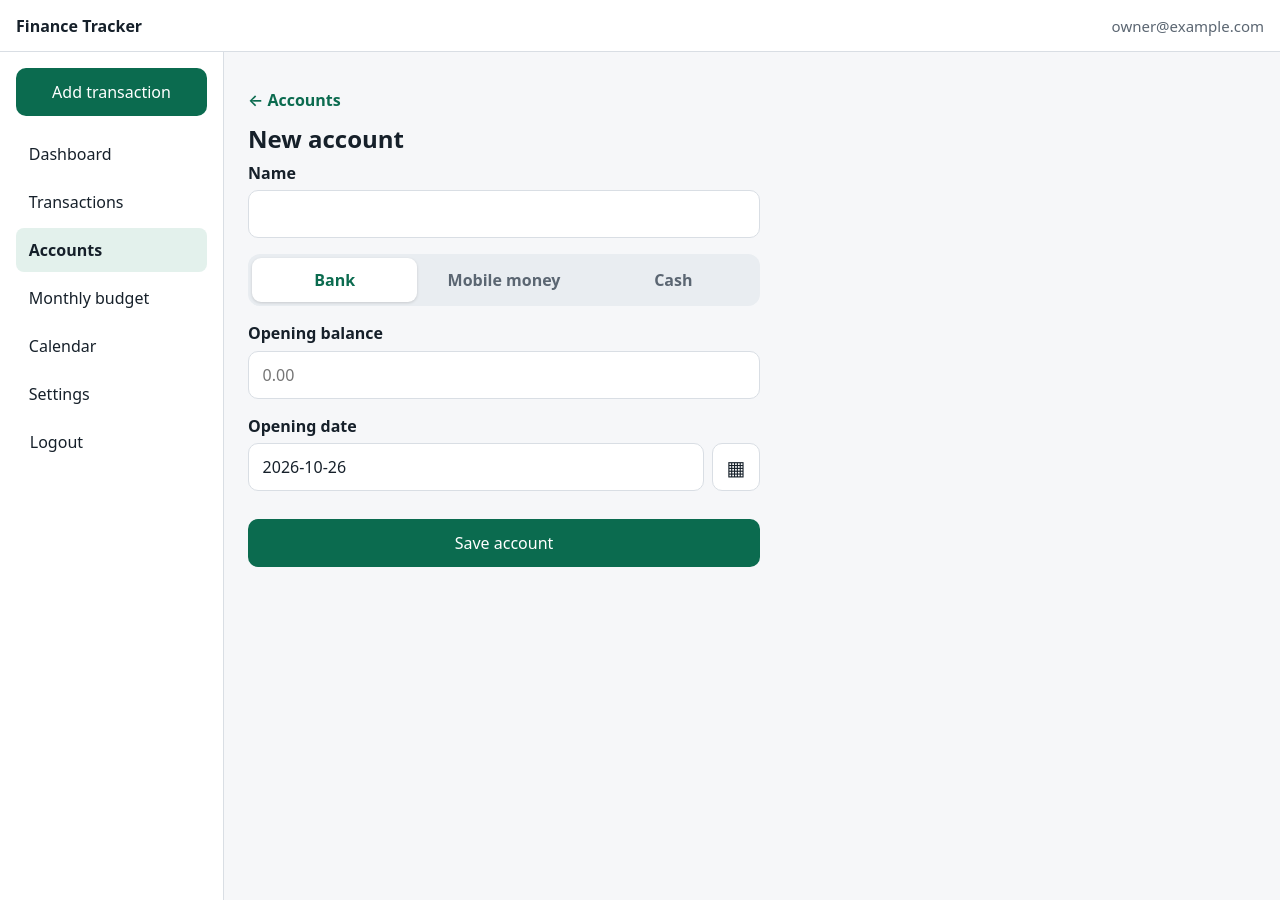
new account form › sends the chosen type and a normalized amount, then returns to the list
Type "MTN MoMo" into the field labelled "Name".
click(504, 214); type("MTN MoMo")  # box [248,190,760,238]
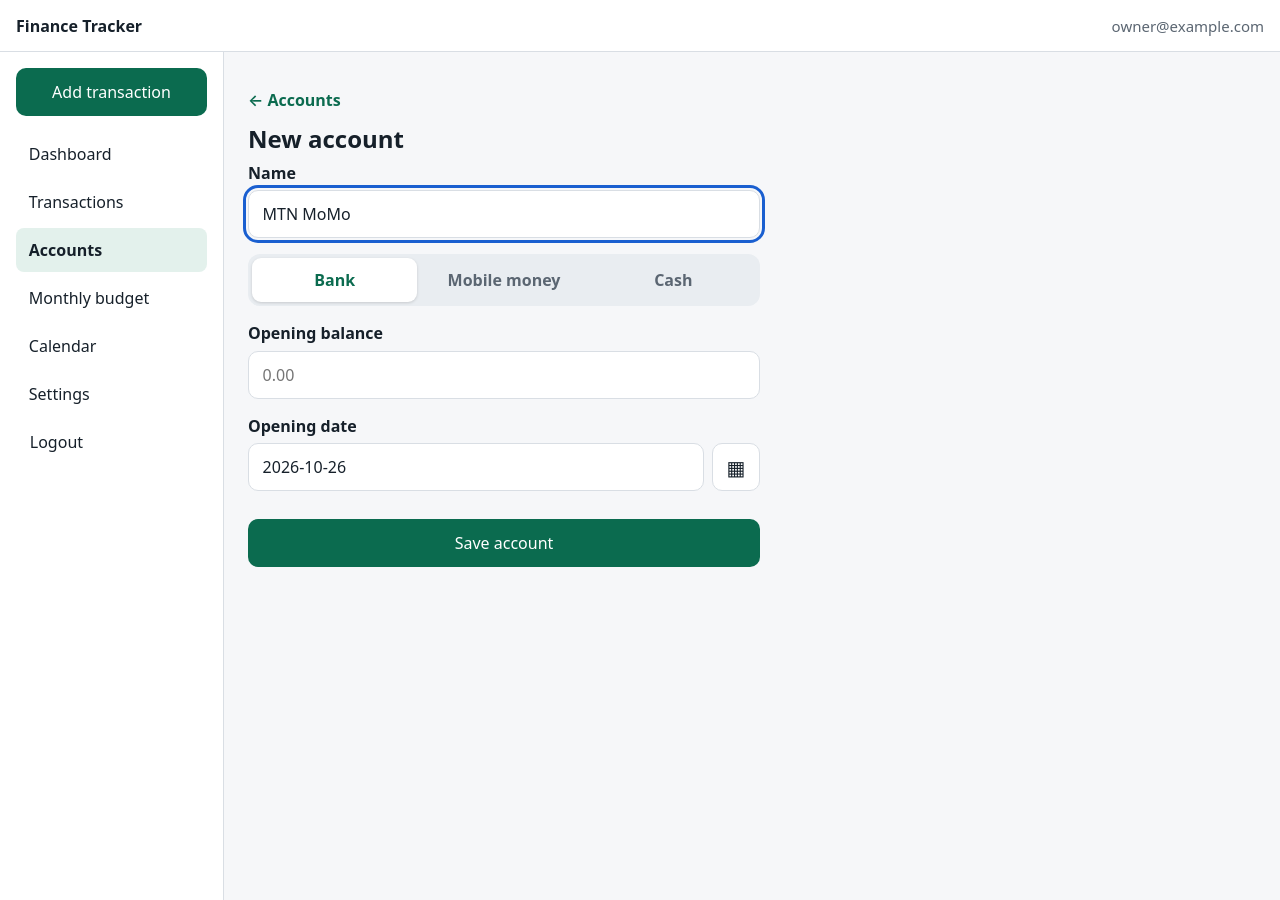
Click the radio button labelled "Mobile money".
click(504, 280)  # box [421,258,587,302]
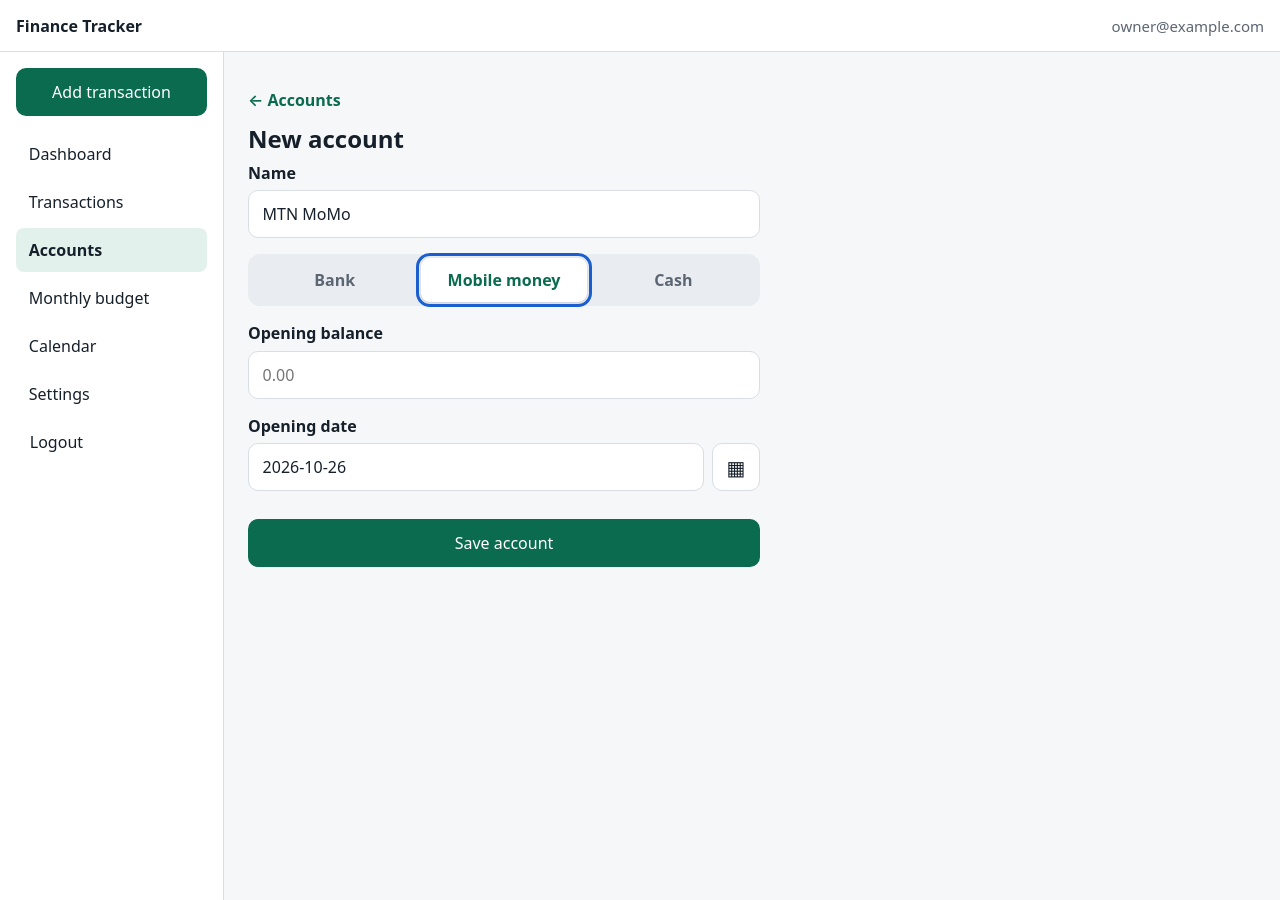
Type "300.5" into the field labelled "Opening balance".
click(504, 375); type("300.5")  # box [248,351,760,399]
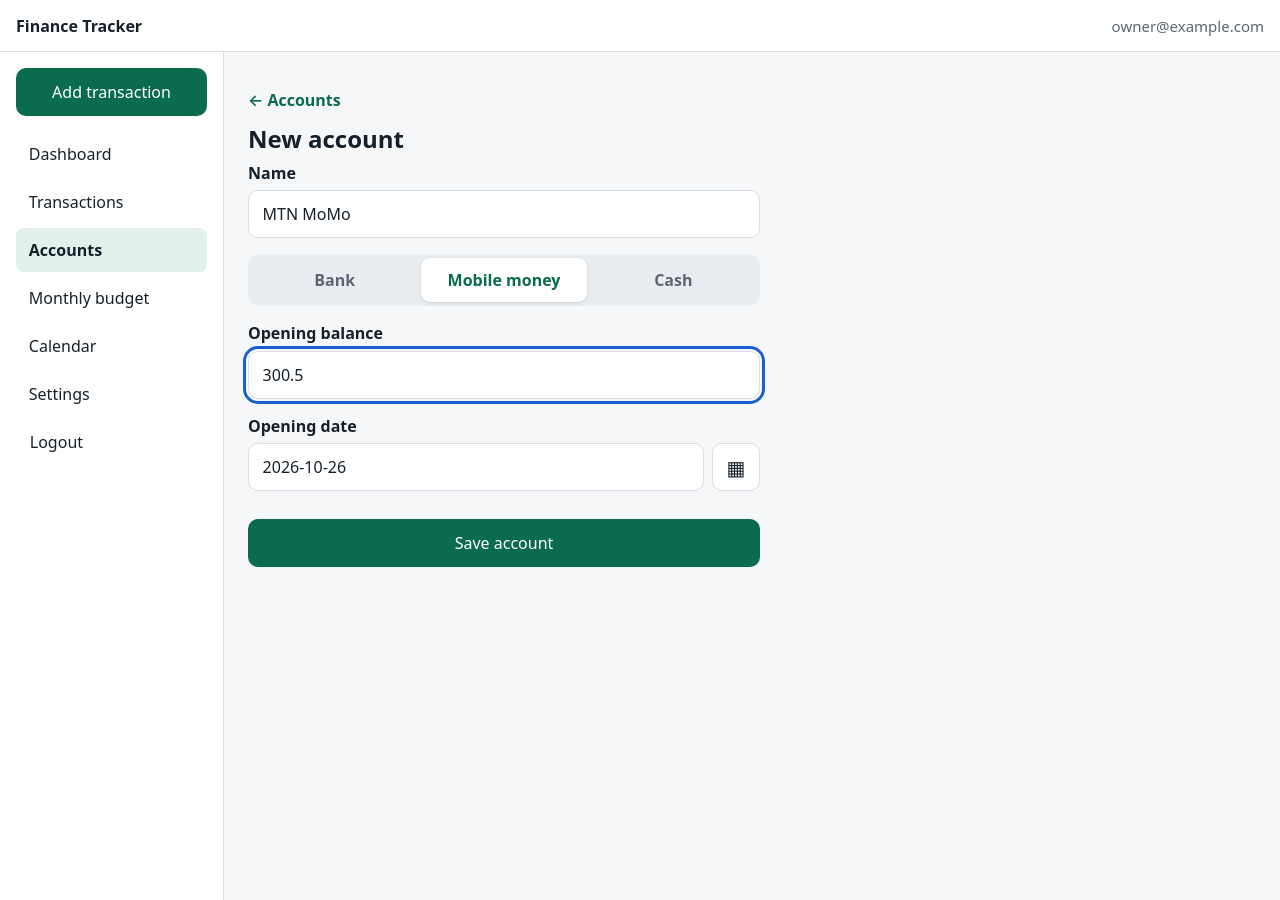
Click the button "Save account".
click(504, 543)  # box [248,519,760,567]
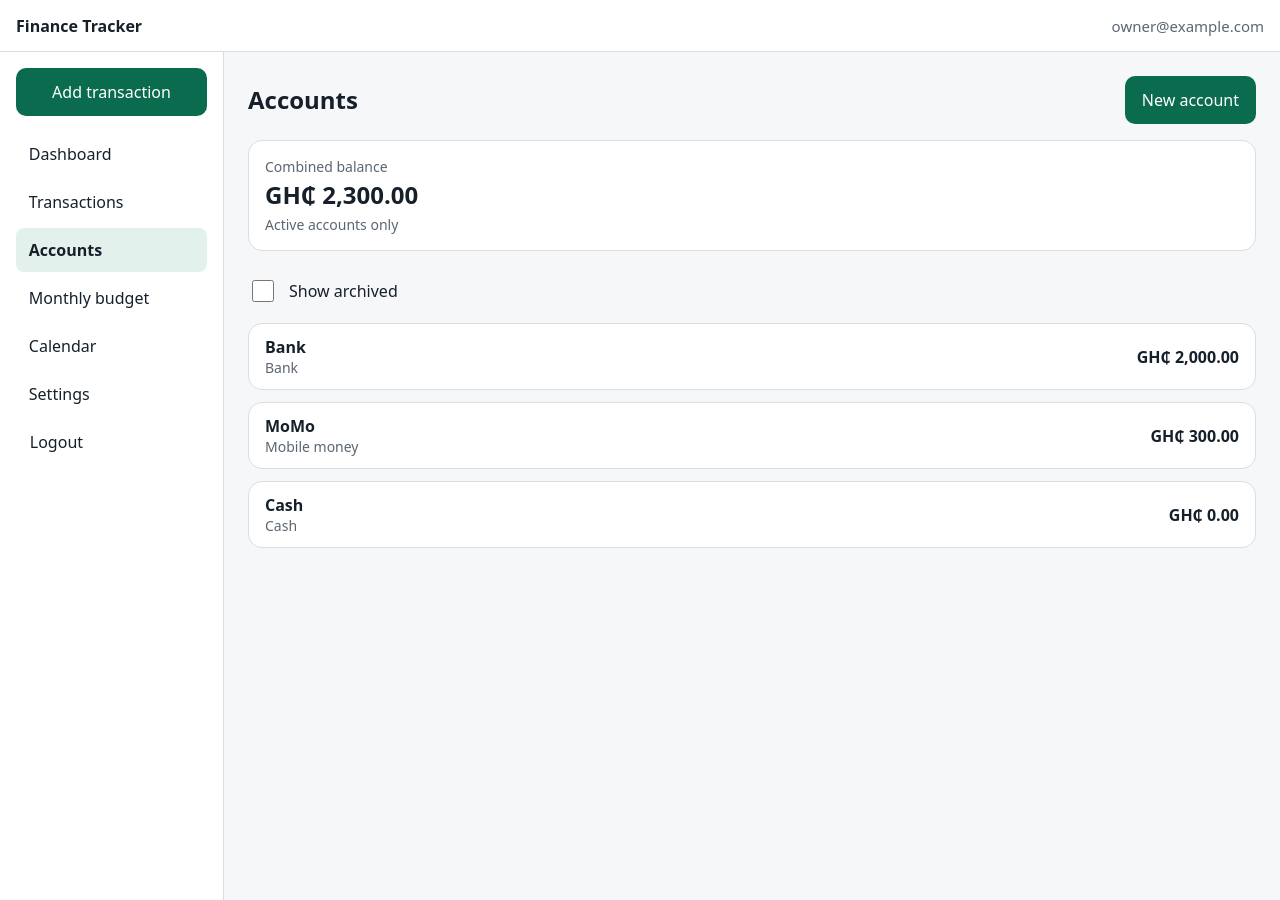
Check: the heading "Accounts" is shown, box [248,85,358,115]
